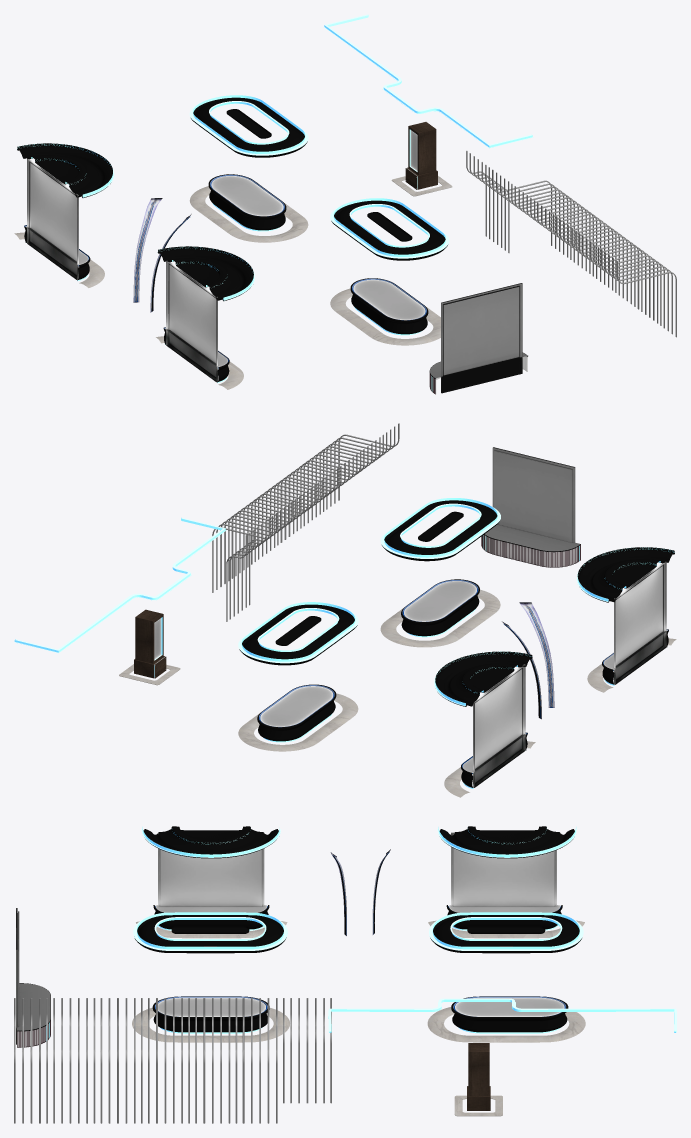
File: Nextron.glb
3 renders of one model, top to bottom at view 1: azimuth 30°, elevation 25°; view 2: azimuth 150°, elevation 25°; view 3: azimuth 270°, elevation 25°, orthographic. The views are drawn at different scales.
Parts seen in each view (by area): view 1: Bakes, polySurface253, Bake_2.002; view 2: Bakes, polySurface253, Bake_2.002, polySurface253.001; view 3: Bakes, polySurface253, polySurface253.001.
Boxes of the visible parts, x1,y1,x2,y2 form: Bakes: (14,97,676,394); polySurface253: (77,14,532,382); Bake_2.002: (133,198,191,312); Bakes: (119,423,676,797); polySurface253: (14,498,614,788); Bake_2.002: (502,602,554,719); polySurface253.001: (434,547,674,706); Bakes: (14,826,585,1123); polySurface253: (133,912,676,1033); polySurface253.001: (141,827,577,857).
Bounding box in the file's own units: 1.7 × 0.3759 × 2.32.
10 materials, 4 textured.
